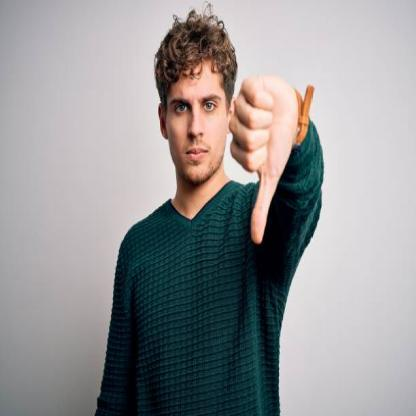thumb_down: (228, 69, 297, 246)
